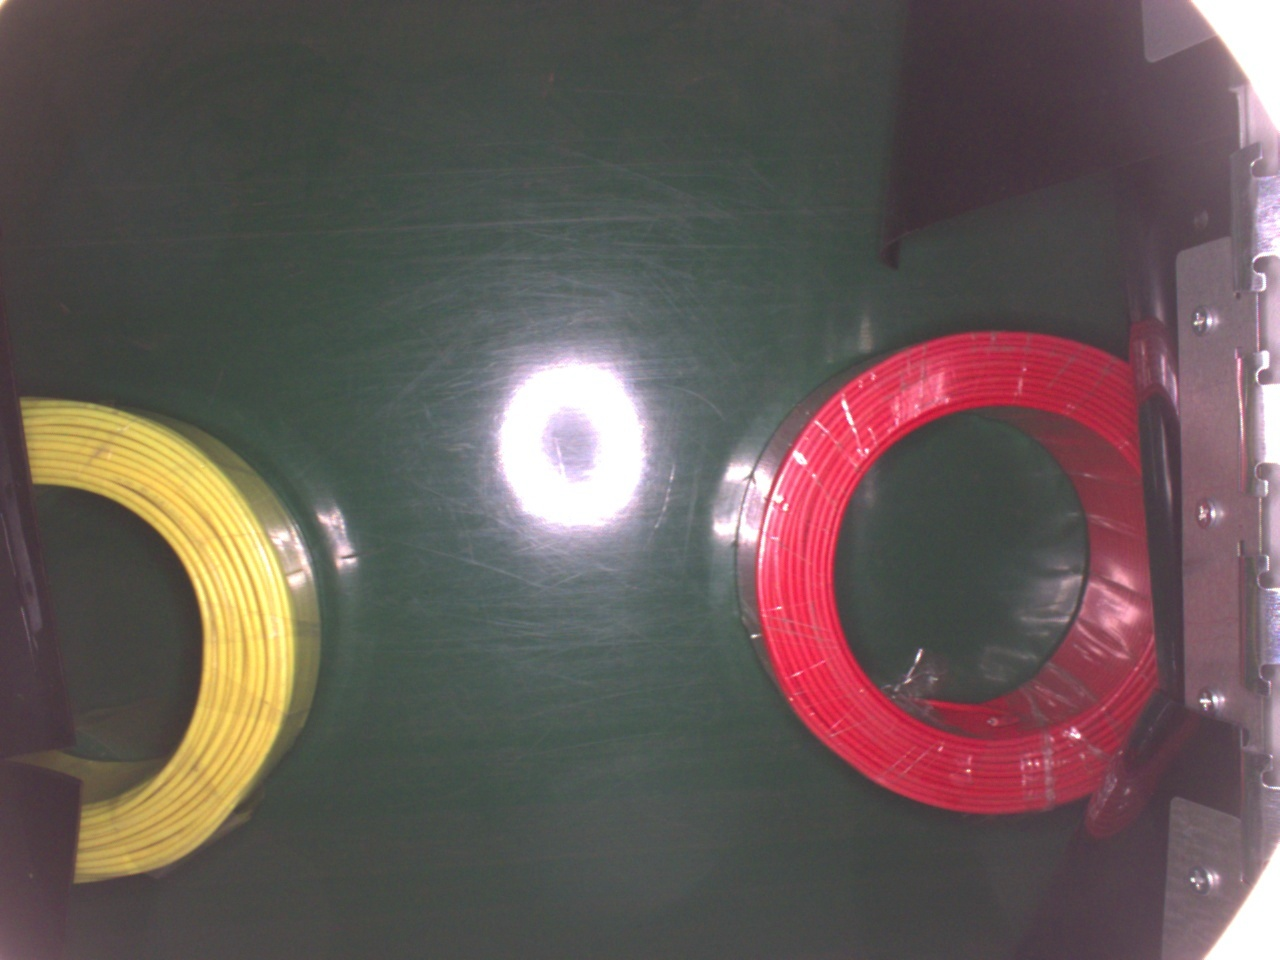red: (730, 320, 1161, 829)
yellow: (18, 390, 322, 890)
